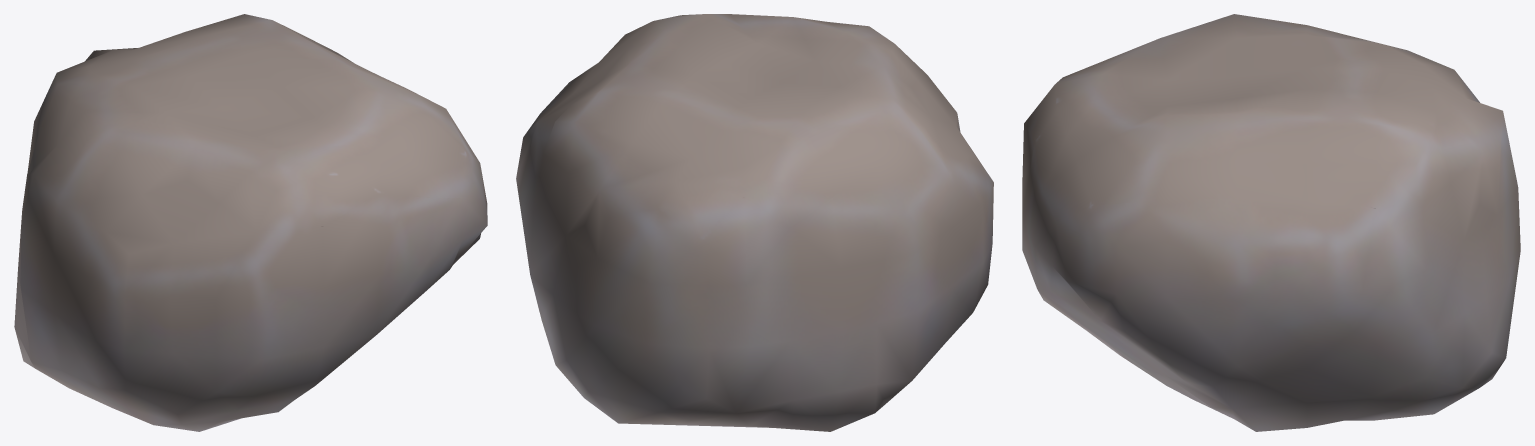
Rendered from Rock.fbx.
3 views of the same model, side by side, from view 1: azimuth 30°, elevation 25°; view 2: azimuth 150°, elevation 25°; view 3: azimuth 270°, elevation 25° (orthographic). The views are drawn at different scales.
Visible parts, largest first — view 1: Cube.001; view 2: Cube.001; view 3: Cube.001.
Boxes of the visible parts, x1,y1,x2,y2 form: Cube.001: [14, 14, 487, 431]; Cube.001: [516, 14, 993, 431]; Cube.001: [1022, 14, 1520, 431].
Size of the model in its own units: 197 by 206 by 148.
1 material, 1 textured.
